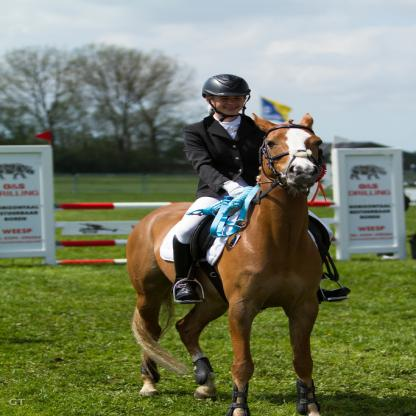Helmet: (201, 73, 255, 117)
